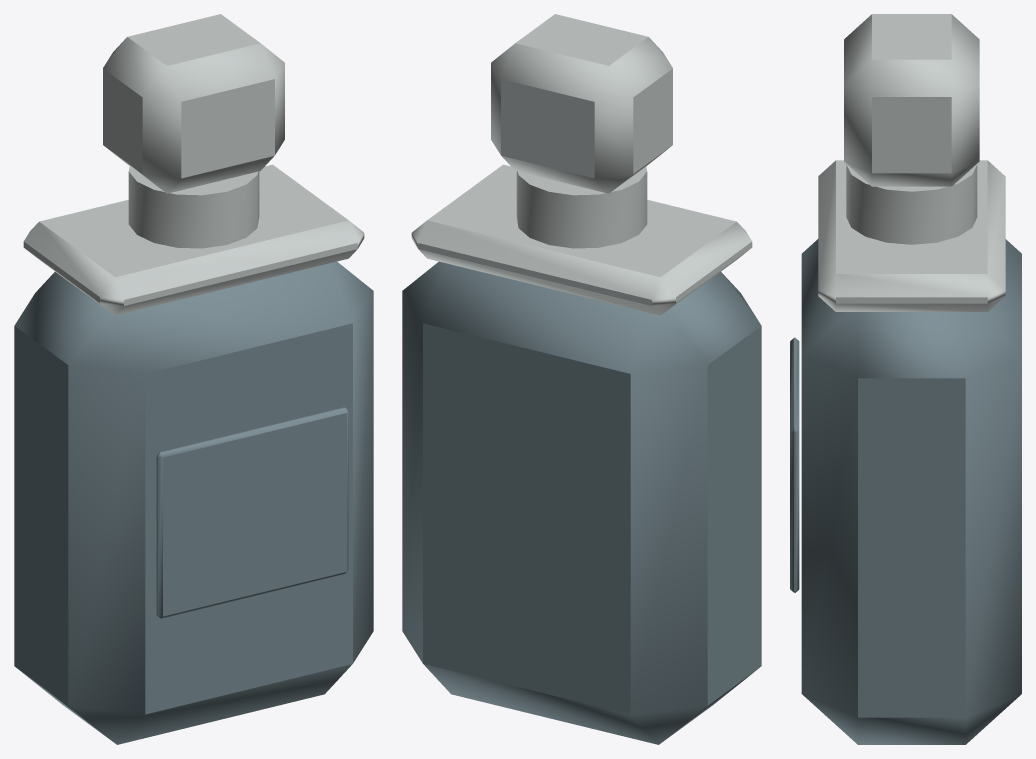
File: perfume-bottle.glb
3 renders of one model, left to right at view 1: azimuth 30°, elevation 25°; view 2: azimuth 150°, elevation 25°; view 3: azimuth 270°, elevation 25°, orthographic.
Visible parts, largest first — view 1: glass_flacon, blank_label, cap, shoulder, neck; view 2: glass_flacon, cap, shoulder, neck; view 3: glass_flacon, cap, shoulder, neck, blank_label.
Part boxes in pixels (x1,y1,x2,y2): glass_flacon: (14, 261, 373, 744); blank_label: (156, 407, 348, 618); cap: (103, 14, 284, 193); shoulder: (23, 164, 364, 315); neck: (128, 166, 259, 248); glass_flacon: (402, 261, 761, 744); cap: (491, 14, 672, 193); shoulder: (411, 164, 752, 315); neck: (516, 166, 647, 248); glass_flacon: (801, 239, 1021, 744); cap: (844, 14, 979, 186); shoulder: (818, 160, 1005, 311); neck: (846, 164, 977, 244); blank_label: (790, 337, 799, 592).
Size of the model in its own units: 0.075 by 0.155 by 0.0495.
